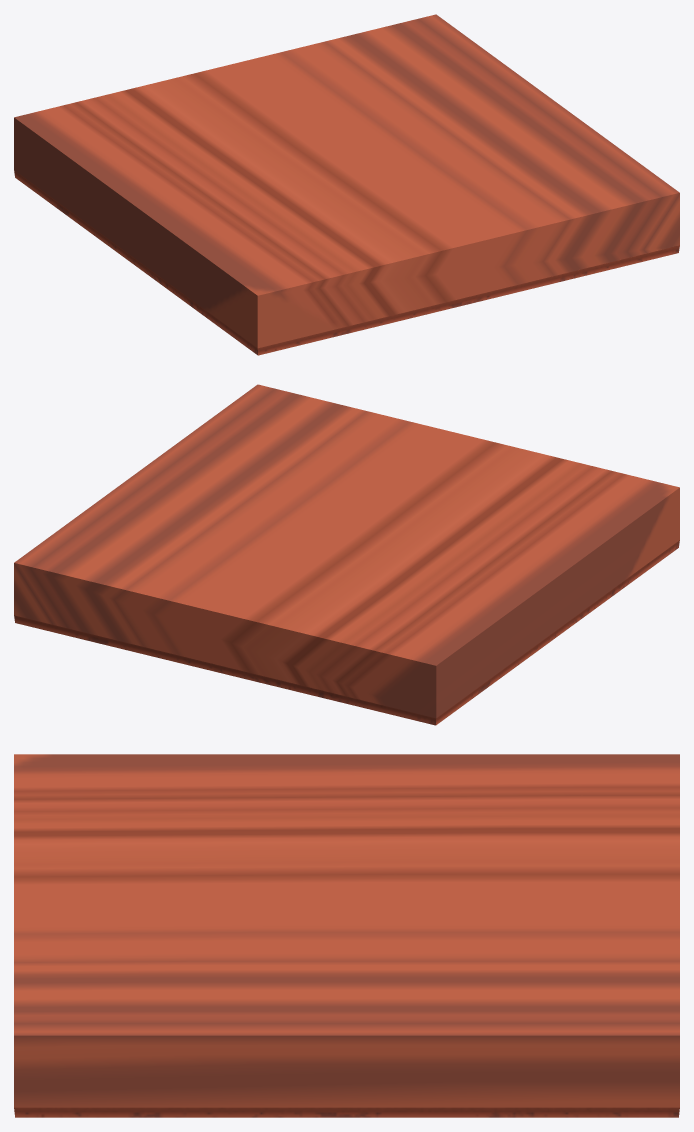
The model's file is MSH_Ceiling_02.FBX.
3 renders of one model, top to bottom at view 1: azimuth 30°, elevation 25°; view 2: azimuth 150°, elevation 25°; view 3: azimuth 270°, elevation 25°, orthographic. The views are drawn at different scales.
Visible parts, largest first — view 1: MSH_Ceiling_02; view 2: MSH_Ceiling_02; view 3: MSH_Ceiling_02.
Boxes of the visible parts, bbox=[...] form: MSH_Ceiling_02: bbox=[14, 14, 679, 355]; MSH_Ceiling_02: bbox=[14, 384, 679, 725]; MSH_Ceiling_02: bbox=[14, 754, 679, 1117].
Size of what is drawn, in the model's own units: 180 by 180 by 24.94.
